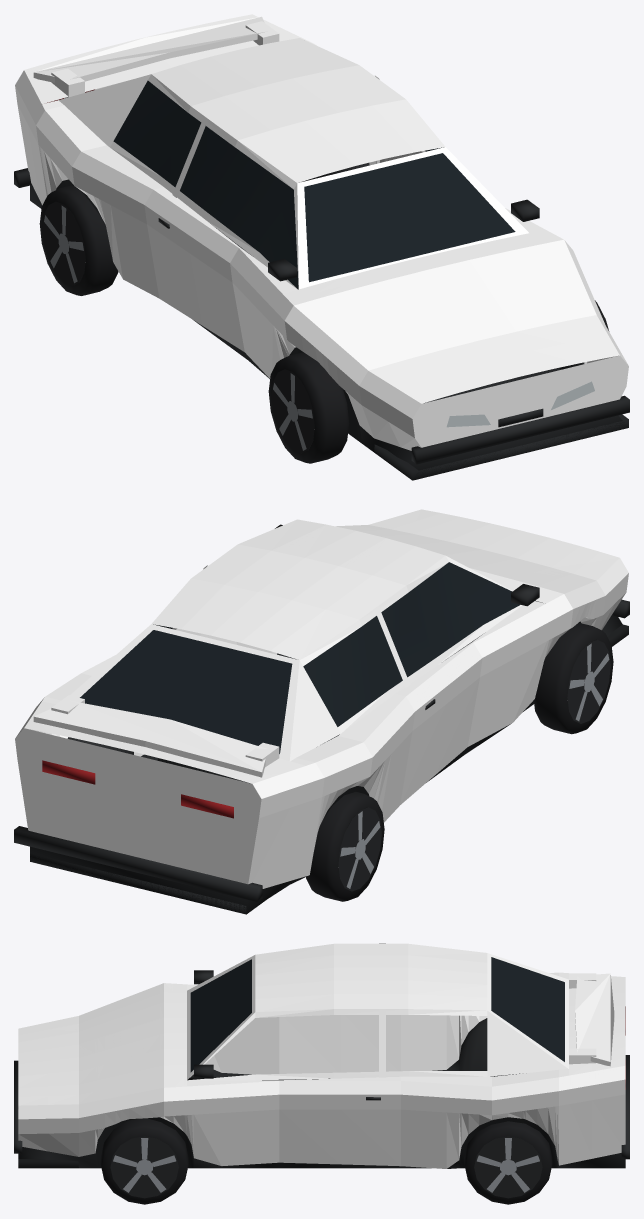
Rendered from feldhaus_cantiga.glb.
3 renders of one model, top to bottom at view 1: azimuth 30°, elevation 25°; view 2: azimuth 150°, elevation 25°; view 3: azimuth 270°, elevation 25°, orthographic. The views are drawn at different scales.
Parts seen in each view (by area): view 1: Body_Paint, Body_Details, Mount_FrontLeft_Wheel_Details, Mount_RearLeft_Wheel_Details; view 2: Body_Paint, Body_Details, Mount_FrontLeft_Wheel_Details, Mount_RearLeft_Wheel_Details; view 3: Body_Paint, Body_Details, Mount_FrontRight_Wheel_Details, Mount_RearRight_Wheel_Details.
Boxes of the visible parts, <box> form: Body_Paint: <box>15,14,628,450</box>; Body_Details: <box>14,80,629,480</box>; Mount_FrontLeft_Wheel_Details: <box>268,352,349,463</box>; Mount_RearLeft_Wheel_Details: <box>39,185,118,295</box>; Body_Paint: <box>15,509,628,888</box>; Body_Details: <box>14,524,629,914</box>; Mount_FrontLeft_Wheel_Details: <box>533,622,613,734</box>; Mount_RearLeft_Wheel_Details: <box>306,792,384,901</box>; Body_Paint: <box>18,943,625,1168</box>; Body_Details: <box>14,957,629,1168</box>; Mount_FrontRight_Wheel_Details: <box>100,1118,188,1204</box>; Mount_RearRight_Wheel_Details: <box>464,1121,552,1204</box>.
Bounding box in the file's own units: 1.82 × 1.28 × 4.07.
2 materials, 1 textured.
